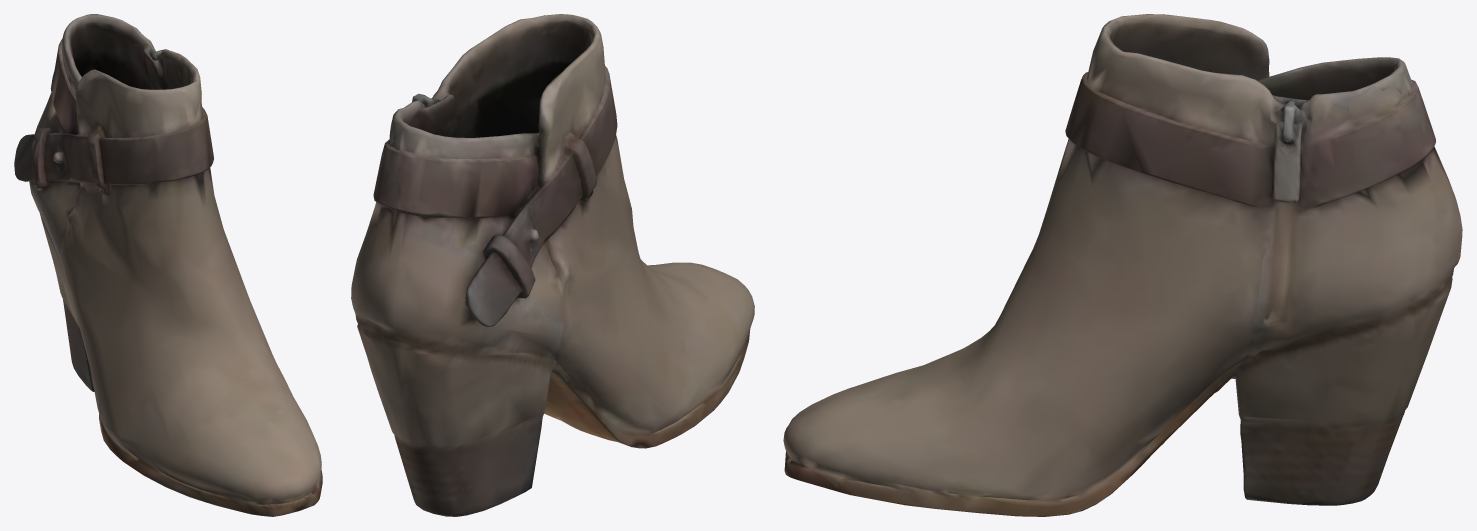
The model's file is Hilary-high.glb.
The picture shows the model from 3 angles, left to right: view 1: azimuth 30°, elevation 25°; view 2: azimuth 150°, elevation 25°; view 3: azimuth 270°, elevation 25°; orthographic projection. The views are drawn at different scales.
Parts seen in each view (by area): view 1: Hilary; view 2: Hilary; view 3: Hilary.
Part boxes in pixels (x1,y1,x2,y2): Hilary: (14,14,322,516); Hilary: (351,14,754,516); Hilary: (783,14,1462,516).
Size of the model in its own units: 0.0827 by 0.1721 by 0.2355.
Materials: 1 (1 with a texture image).
